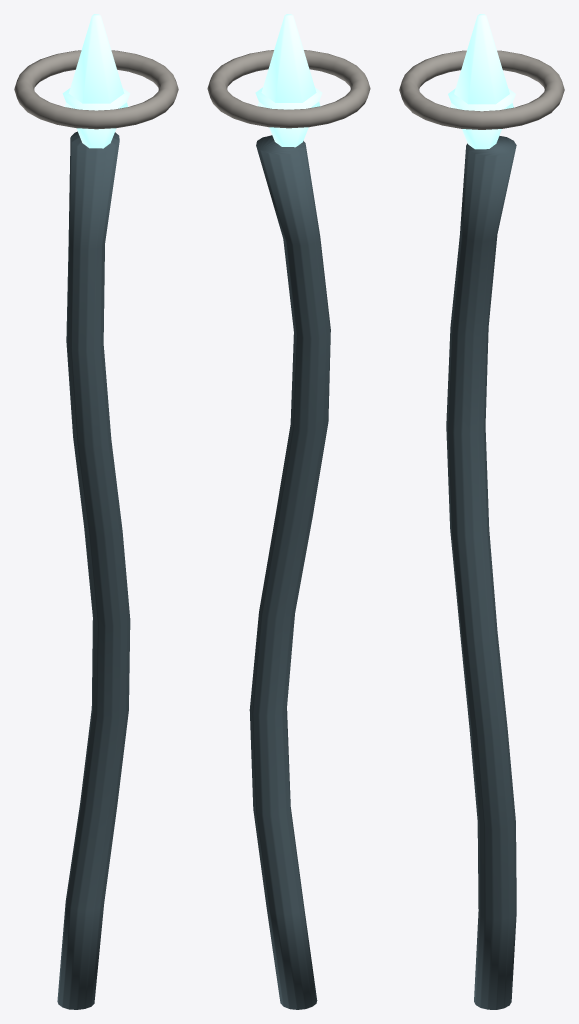
The model's file is SM_Staff_CrystalScepter.fbx.
3 views of the same model, side by side, from view 1: azimuth 30°, elevation 25°; view 2: azimuth 150°, elevation 25°; view 3: azimuth 270°, elevation 25° (orthographic).
Parts seen in each view (by area): view 1: Cylinder; view 2: Cylinder; view 3: Cylinder.
Part boxes in pixels (bbox=[...]): Cylinder: bbox=[14, 14, 178, 1009]; Cylinder: bbox=[207, 14, 370, 1009]; Cylinder: bbox=[399, 14, 564, 1009].
Bounding box in the file's own units: 0.364 × 0.364 × 2.41.
